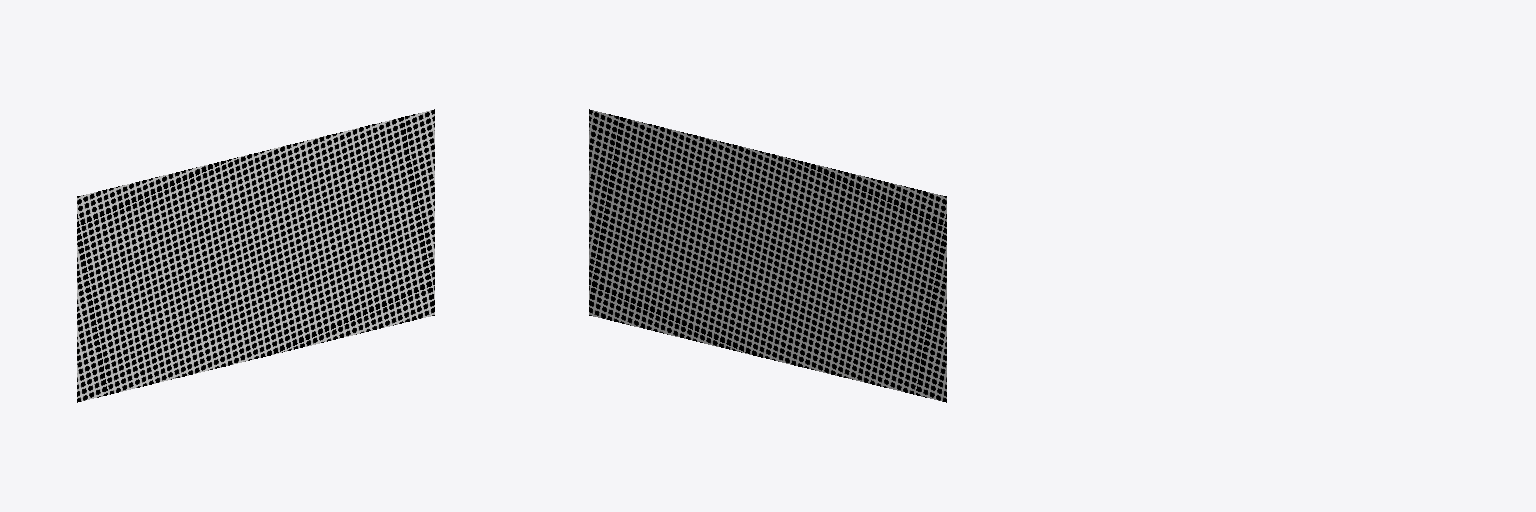
3 views of the same model, side by side, from view 1: azimuth 30°, elevation 25°; view 2: azimuth 150°, elevation 25°; view 3: azimuth 270°, elevation 25° (orthographic).
Parts seen in each view (by area): view 1: Krata; view 2: Krata; view 3: none.
Boxes of the visible parts, <box> form: Krata: <box>77,109,434,402</box>; Krata: <box>589,109,946,402</box>.
Bounding box in the file's own units: 1.07 × 0.5908 × 0.
1 materials, 1 textured.